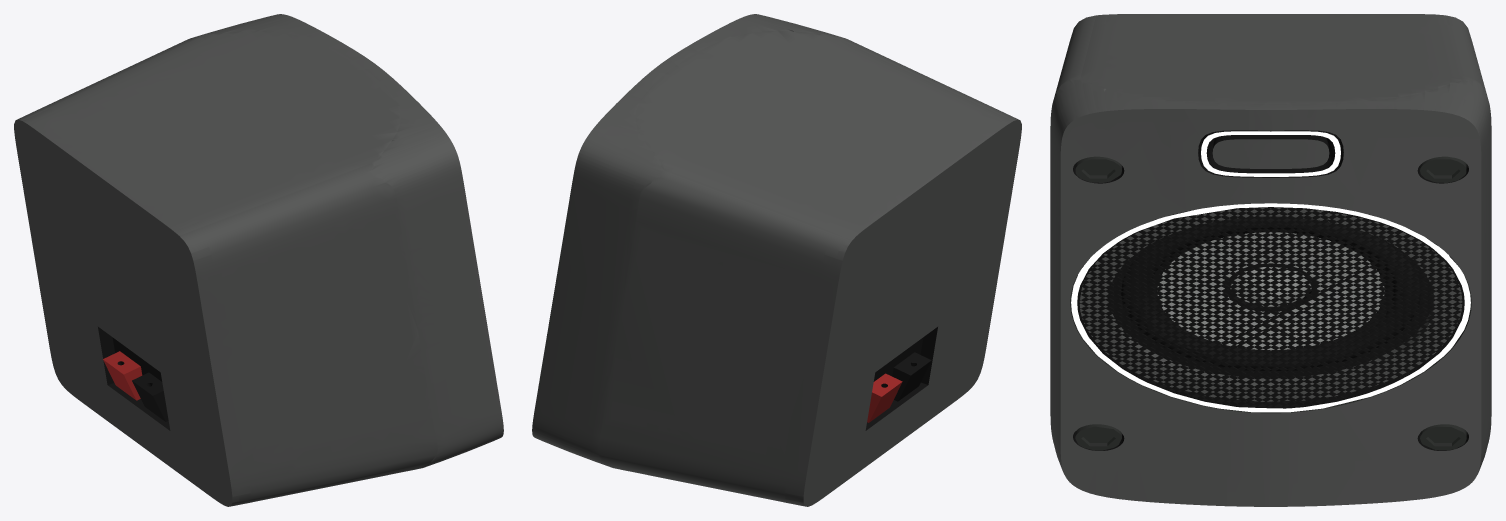
Rendered from spk-creative-pebble-v3_lod1.glb.
The picture shows the model from 3 angles, left to right: view 1: azimuth 30°, elevation 25°; view 2: azimuth 150°, elevation 25°; view 3: azimuth 270°, elevation 25°; orthographic projection. The views are drawn at different scales.
Visible parts, largest first — view 1: body; view 2: body; view 3: body.
Boxes of the visible parts, x1,y1,x2,y2 form: body: (14,14,503,506); body: (532,14,1021,506); body: (1050,14,1491,506).
Bounding box in the file's own units: 0.116 × 0.115 × 0.122.
Materials: 6 (1 with a texture image).
